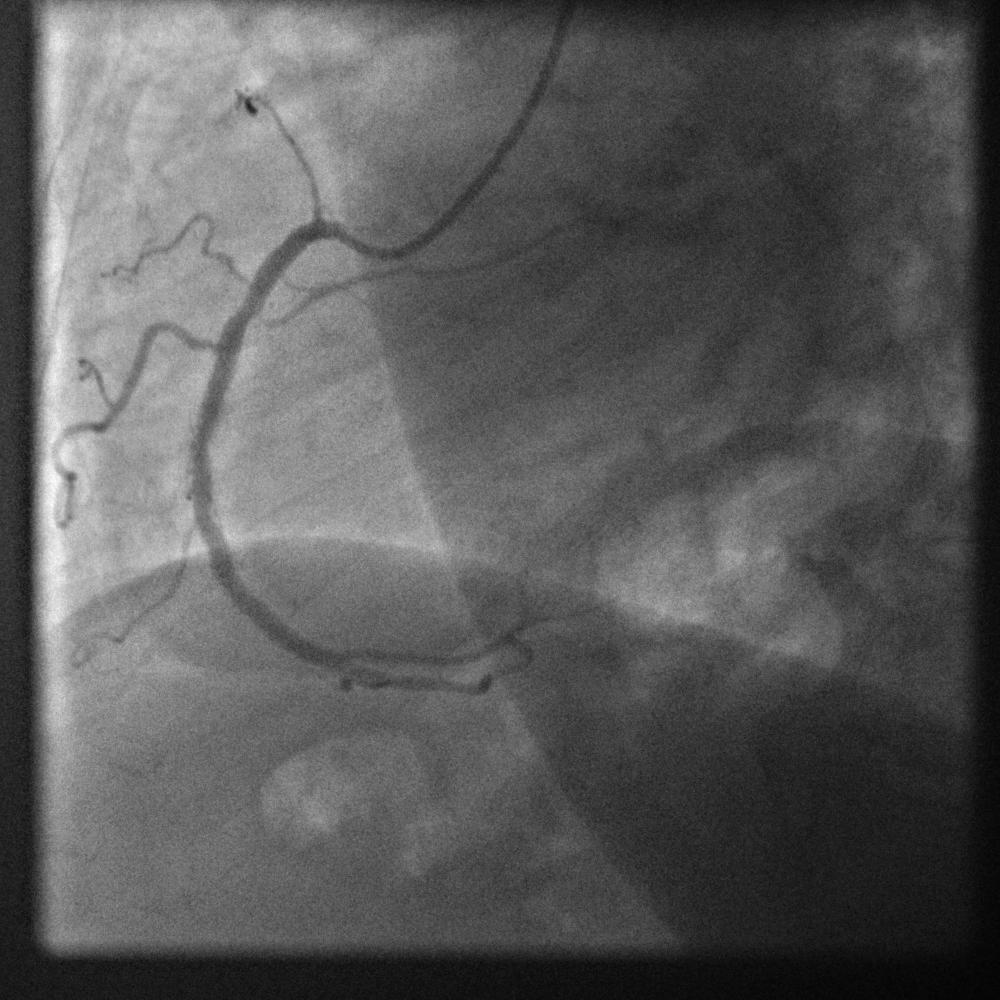Stenosis: (217, 271, 265, 342)
